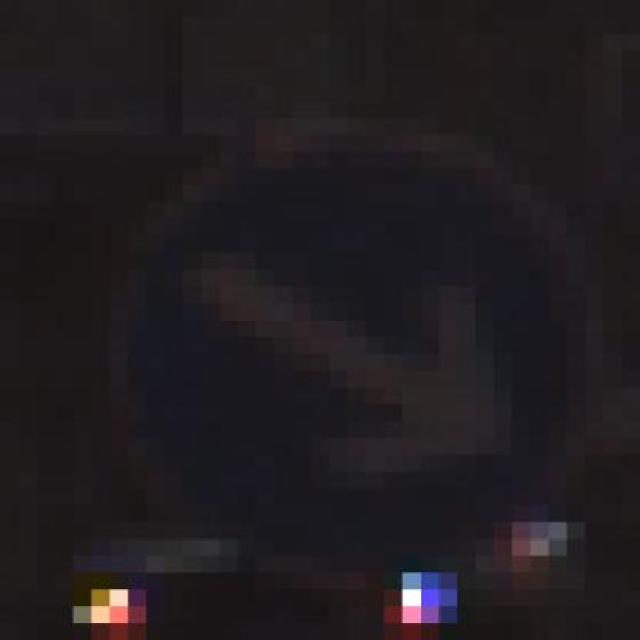Keep-Right: (92, 101, 622, 539)
